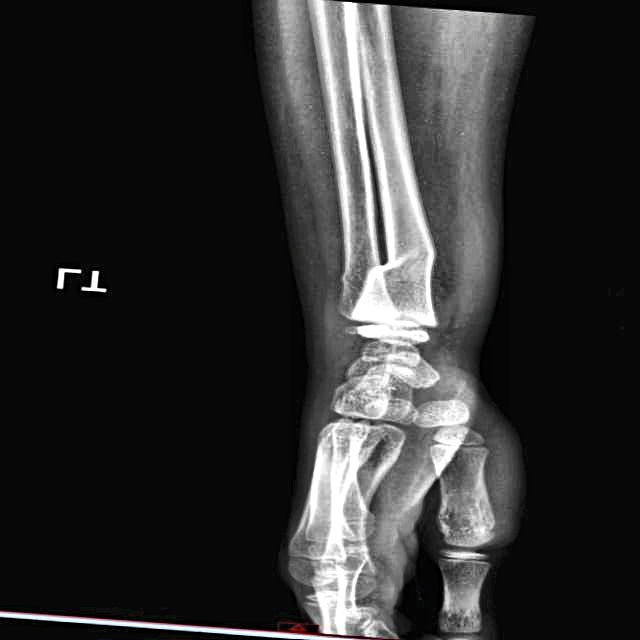Greenstick: (358, 240, 425, 297)
